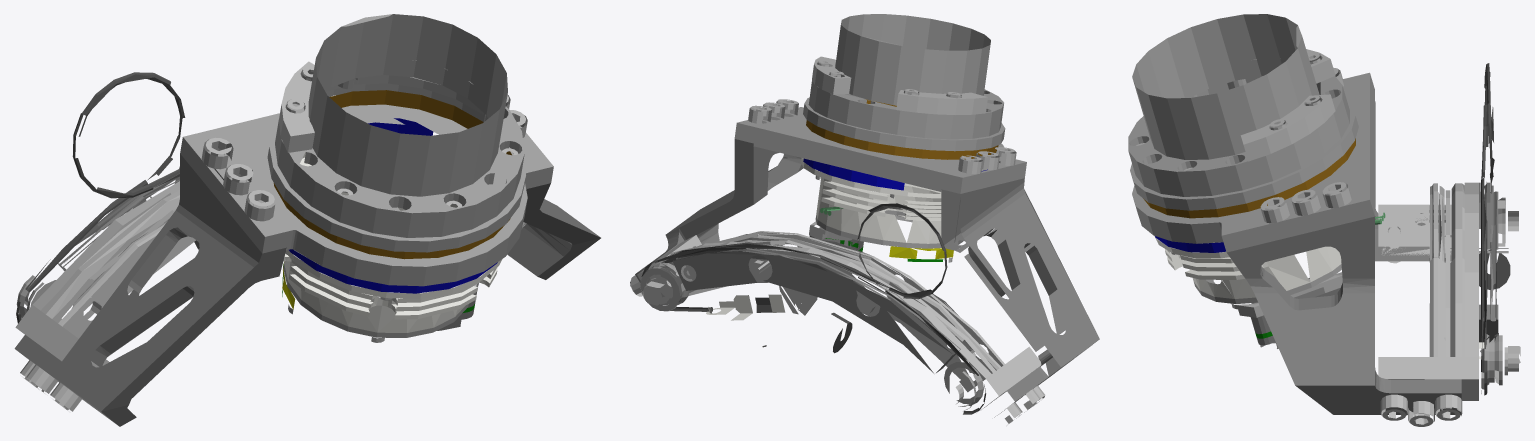
The model's file is ArmR_Sho1_joint_visu.dae.
3 renders of one model, left to right at view 1: azimuth 30°, elevation 25°; view 2: azimuth 150°, elevation 25°; view 3: azimuth 270°, elevation 25°, orthographic. The views are drawn at different scales.
Visible parts, largest first — view 1: Visualization_ARDof1; view 2: Visualization_ARDof1; view 3: Visualization_ARDof1.
Boxes of the visible parts, <box> form: Visualization_ARDof1: <box>14,14,600,426</box>; Visualization_ARDof1: <box>630,14,1099,423</box>; Visualization_ARDof1: <box>1128,14,1520,426</box>.
Size of the model in its own units: 0.165 by 0.1227 by 0.1156.
